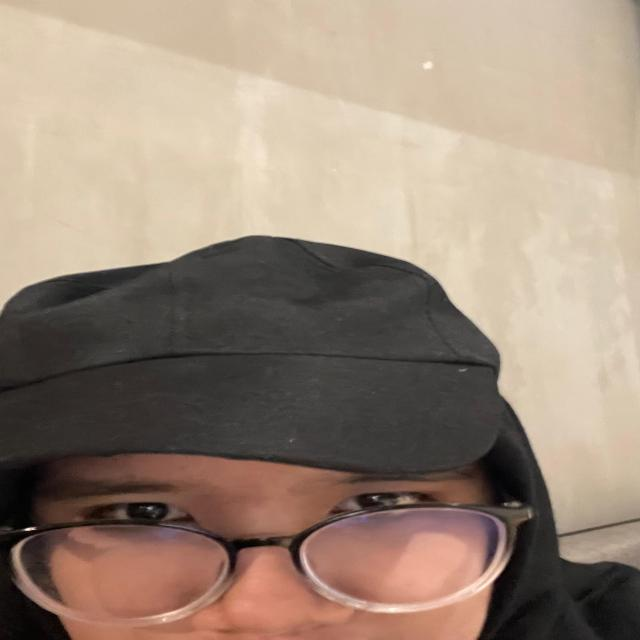3_gorra: (2, 234, 512, 482)
